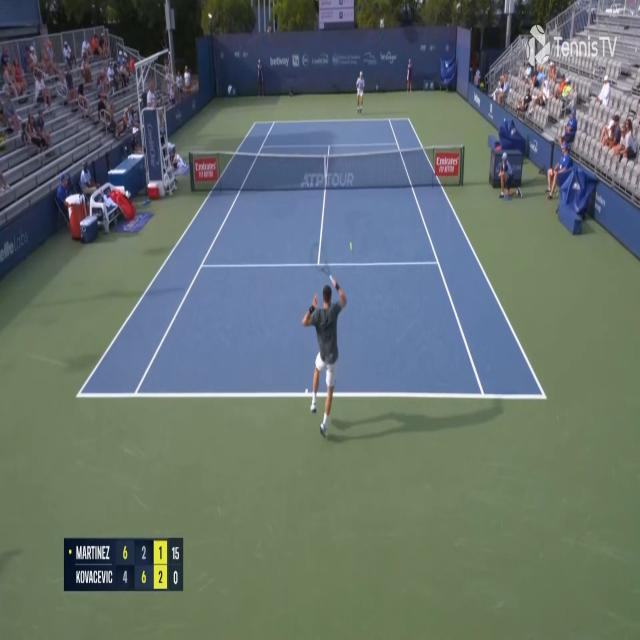tennis-player: (302, 271, 351, 442), (355, 69, 366, 115)
